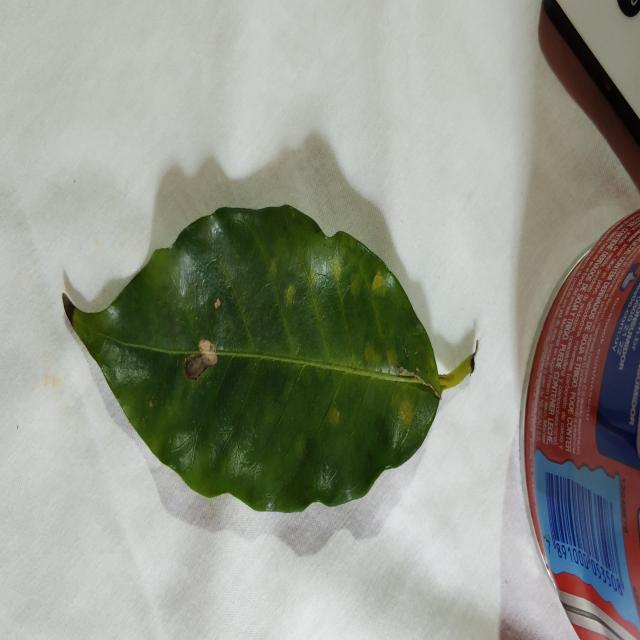Enfermedad-Roya: (64, 206, 474, 516)
